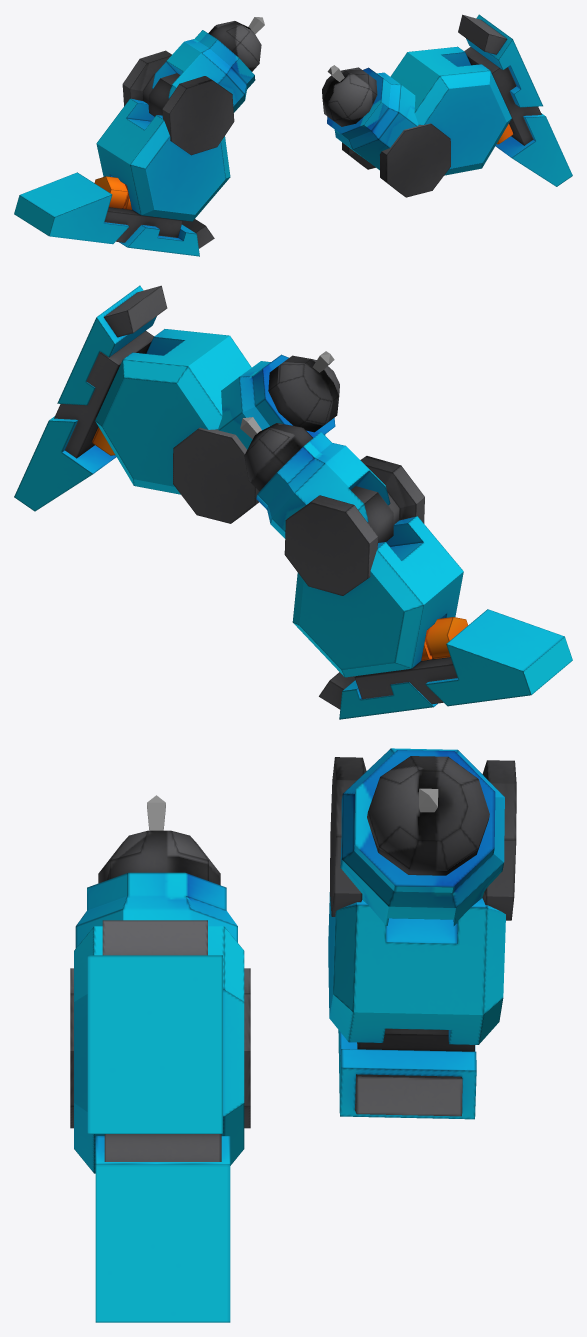
The model's file is Bottom_Running37.obj.
3 renders of one model, top to bottom at view 1: azimuth 30°, elevation 25°; view 2: azimuth 150°, elevation 25°; view 3: azimuth 270°, elevation 25°, orthographic. The views are drawn at different scales.
Visible parts, largest first — view 1: Object010, Object013, Object011, Object014, Object012, Object009; view 2: Object010, Object013, Object011, Object014, Object009, Object012; view 3: Object014, Object010, Object009, Object011, Object012, Object013.
Part boxes in pixels (x1,y1,x2,y2): Object010: (96,50,234,221); Object013: (342,46,511,197); Object011: (14,172,214,256); Object014: (458,14,572,186); Object012: (322,67,418,170); Object009: (152,21,261,112); Object010: (284,456,463,677); Object013: (95,329,259,523); Object011: (319,609,572,719); Object014: (14,285,167,511); Object009: (244,423,390,538); Object012: (218,354,339,449); Object014: (87,920,230,1322); Object010: (328,757,516,1044); Object009: (340,748,504,925); Object011: (338,1028,476,1119); Object012: (75,830,237,948); Object013: (70,926,250,1173).
Bounding box in the file's own units: 224 × 98.09 × 93.47.
